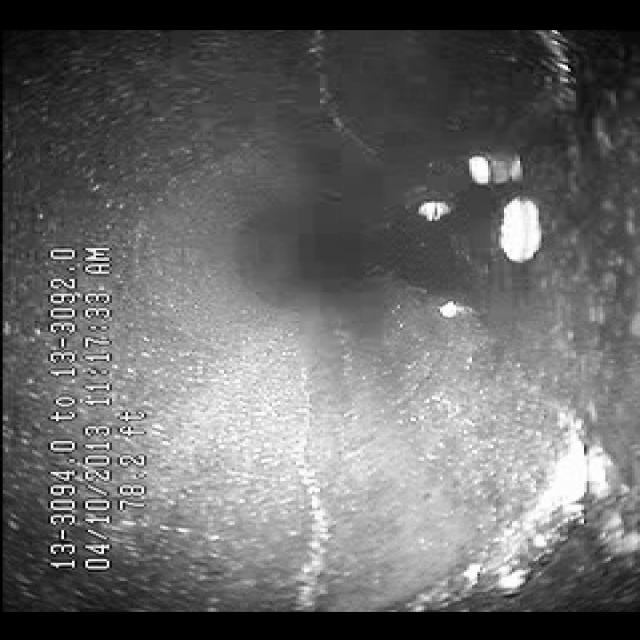Crack: (240, 352, 372, 600)
